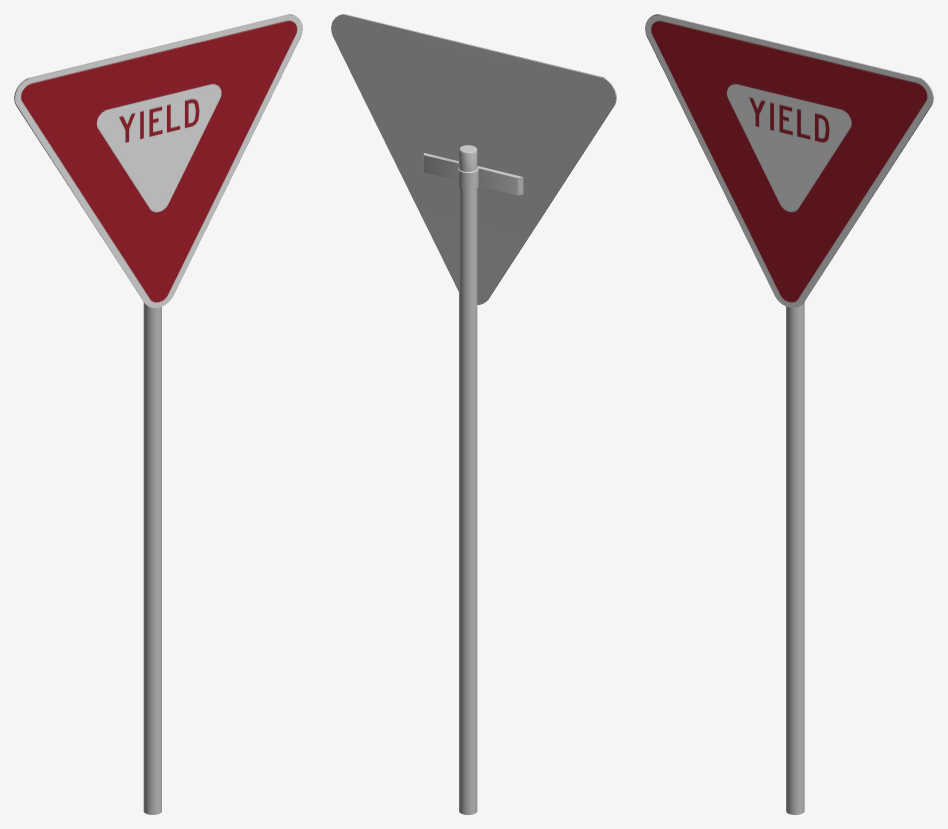
The model's file is yield.glb.
3 renders of one model, left to right at view 1: azimuth 30°, elevation 25°; view 2: azimuth 150°, elevation 25°; view 3: azimuth 330°, elevation 25°, orthographic.
Parts seen in each view (by area): view 1: Object_5, Object_4; view 2: Object_4; view 3: Object_5, Object_4.
Part boxes in pixels (x1,y1,x2,y2): Object_5: (15,14,302,307); Object_4: (14,14,302,814); Object_4: (331,14,616,814); Object_5: (645,14,932,307); Object_4: (652,14,933,814).
Bounding box in the file's own units: 0.9 × 2.3 × 0.0617.
2 materials, 1 textured.
